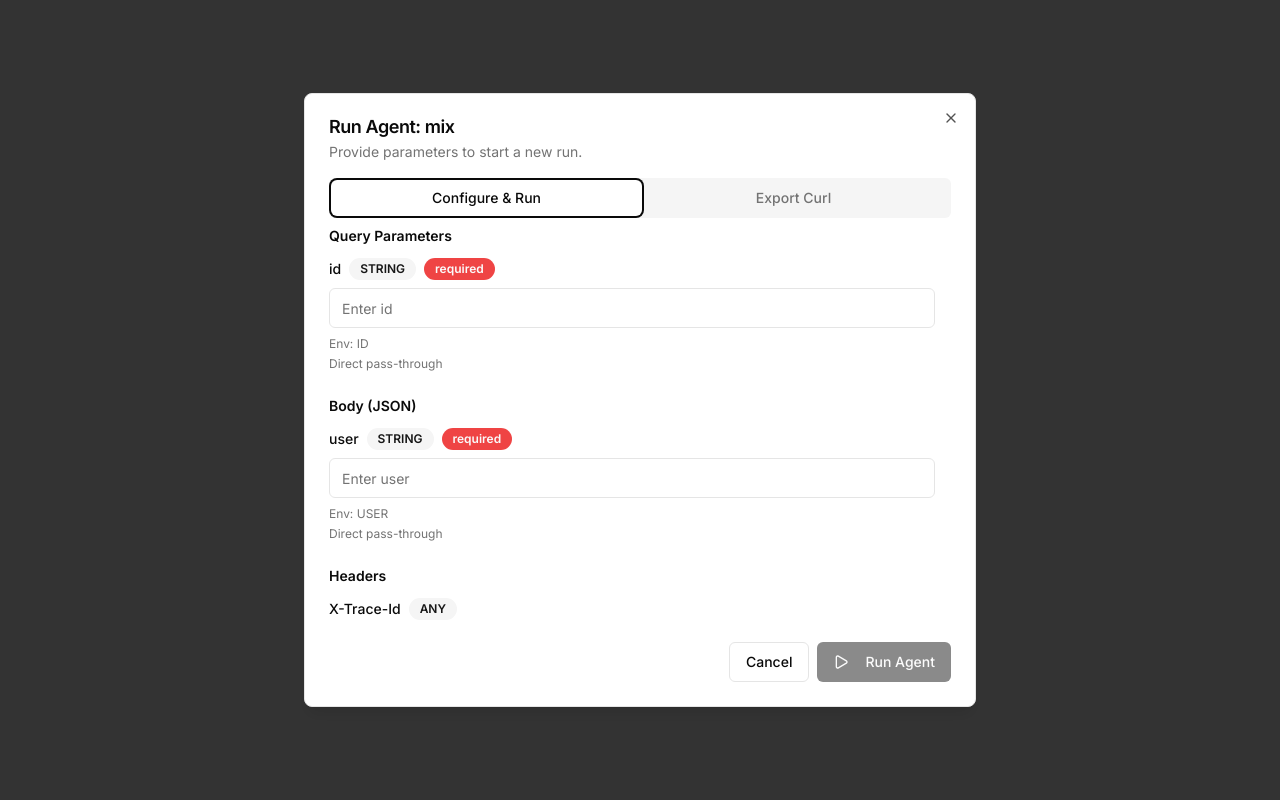
Scenario: RunAgentDialog with mixed sources › exports the auth placeholder and never a raw token in the curl command
The image size is (1280, 800).
Click the tab "Export Curl" at (794,198), box [640,182,947,214]
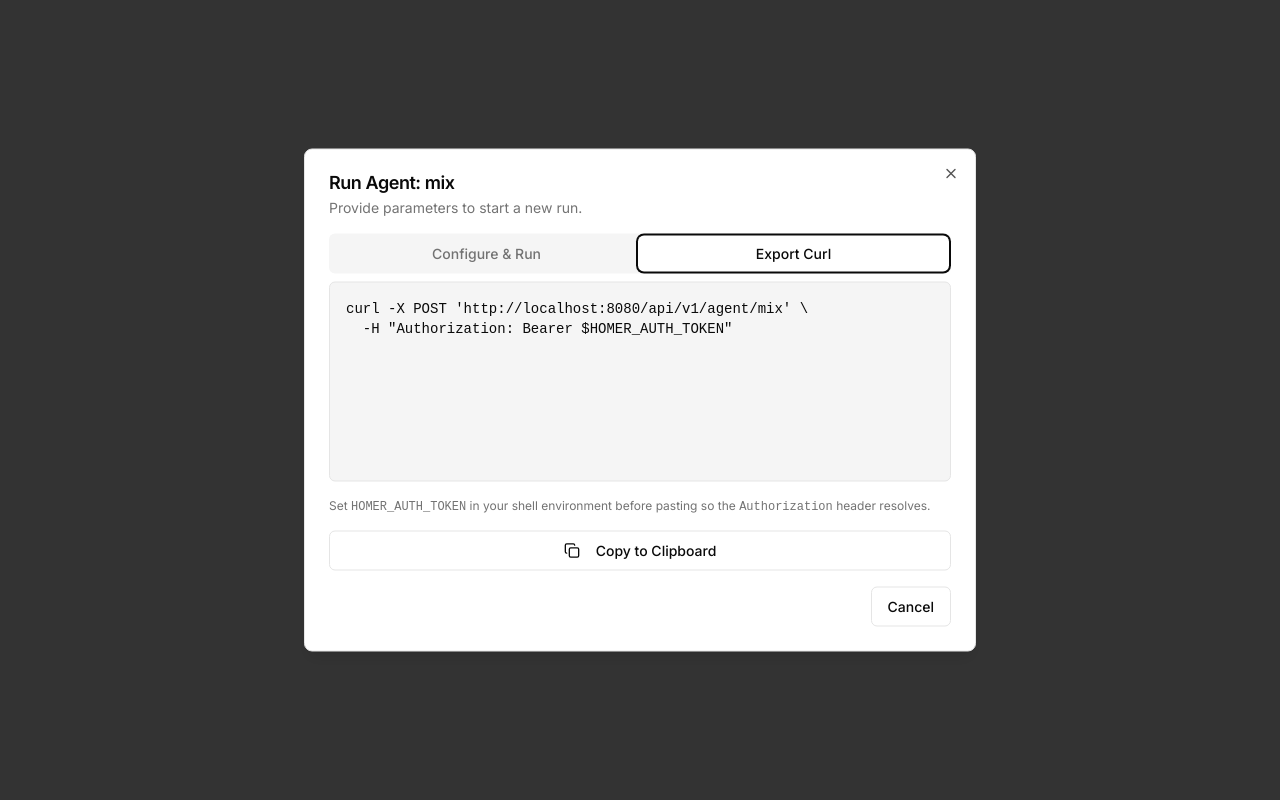
Expected: the text "curl -X POST" shows "Authorization: Bearer $HOMER_AUTH_TOKEN", [346,300,808,336]
